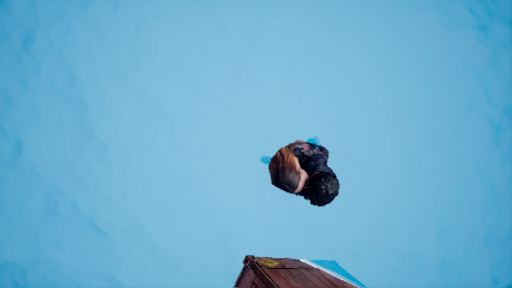person: (258, 128, 341, 208)
